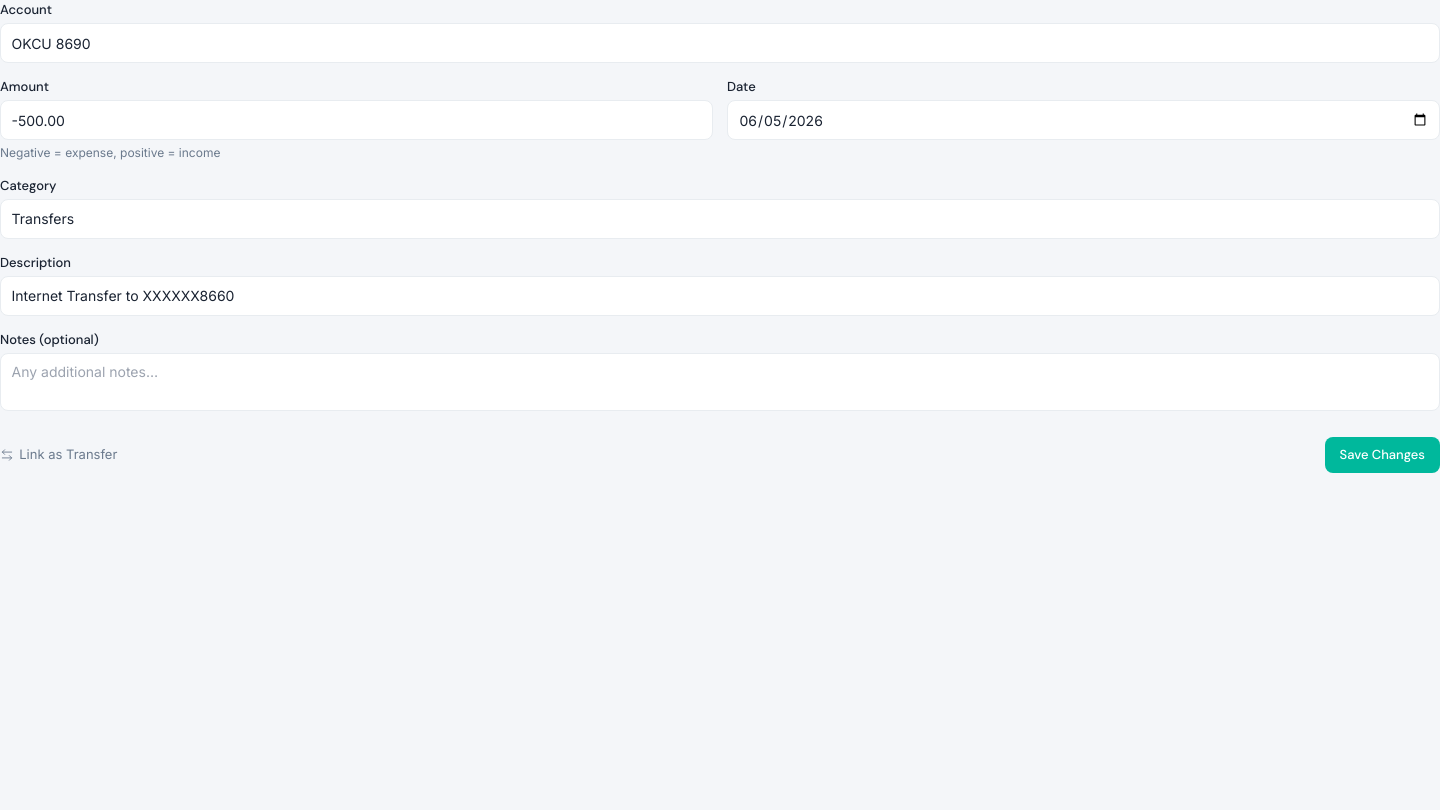
Test: TransactionForm — Link as Transfer › surfaces a same-day, opposite-amount, different-account transaction as a link candidate
Click the button "Link as Transfer": click(59, 455) [0, 445, 117, 464]
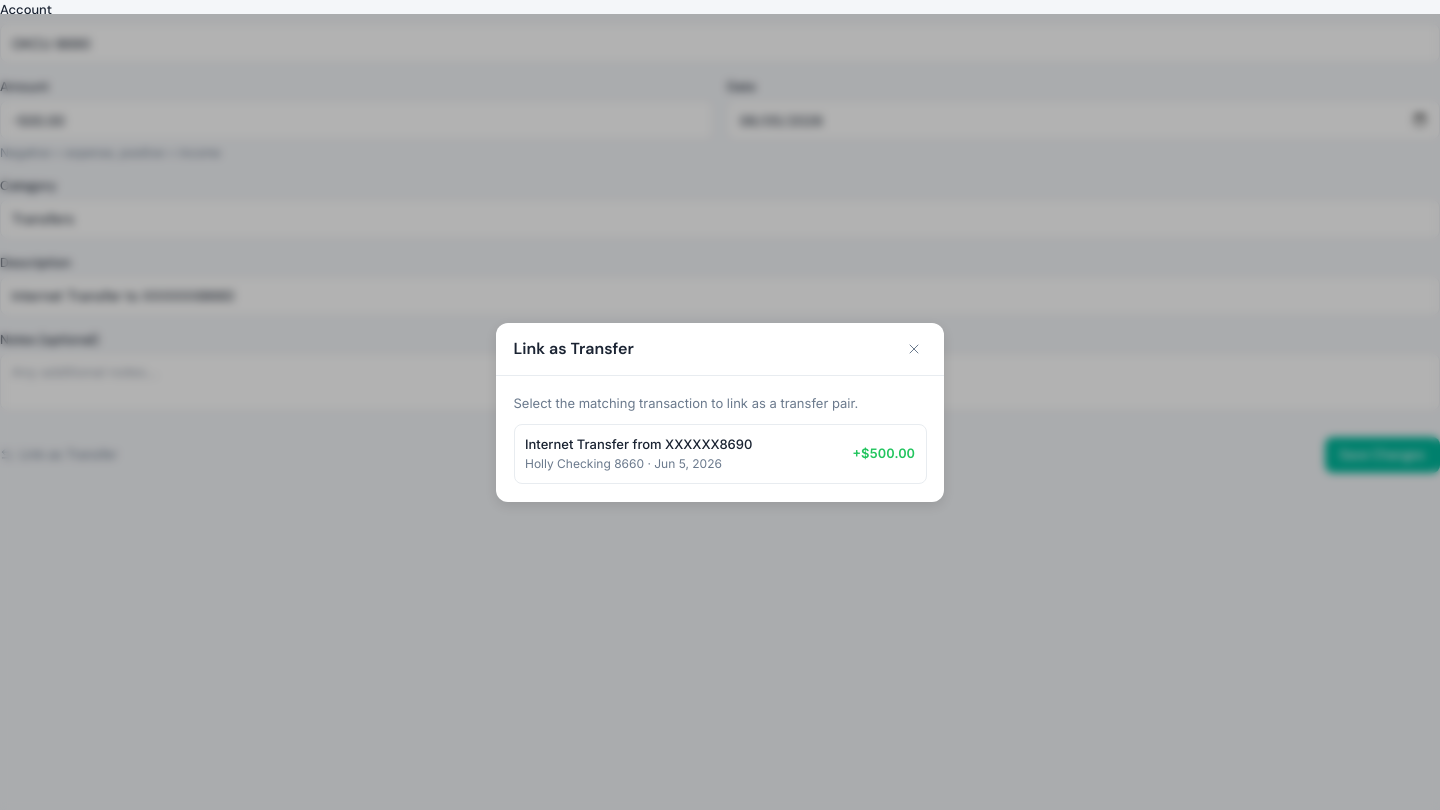
Now the text "Internet Transfer from XXXXXX8690" is shown, box [525, 435, 752, 454]
